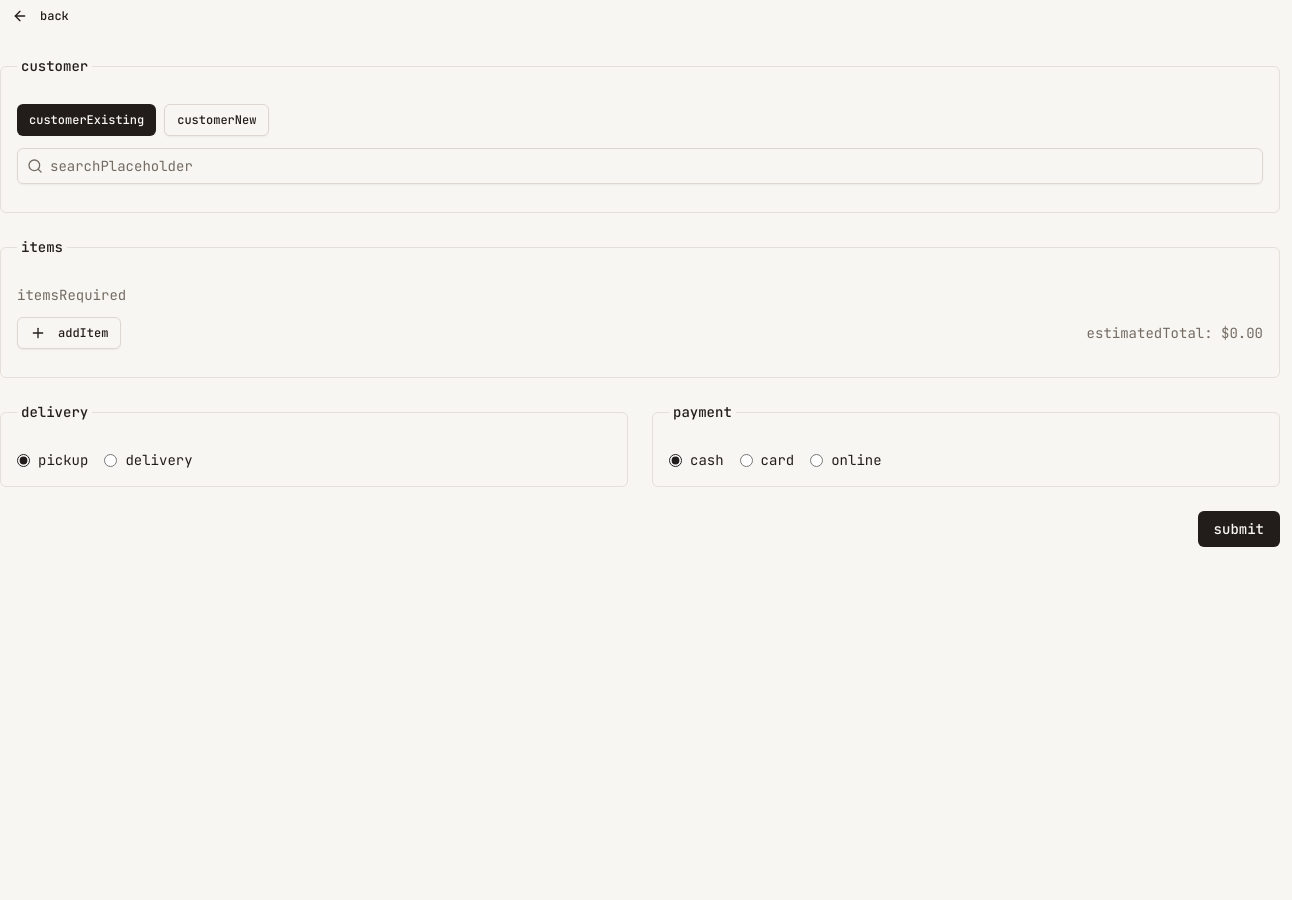
OrderIntakeForm › requires a delivery address for delivery orders
Check: the field with placeholder "searchPlaceholder" is shown, box [17,148,1263,184]
Check: the button "addItem" is enabled, box [17,317,121,349]
Click the button "customerNew" at {"x": 217, "y": 120}, box [164,104,269,136]
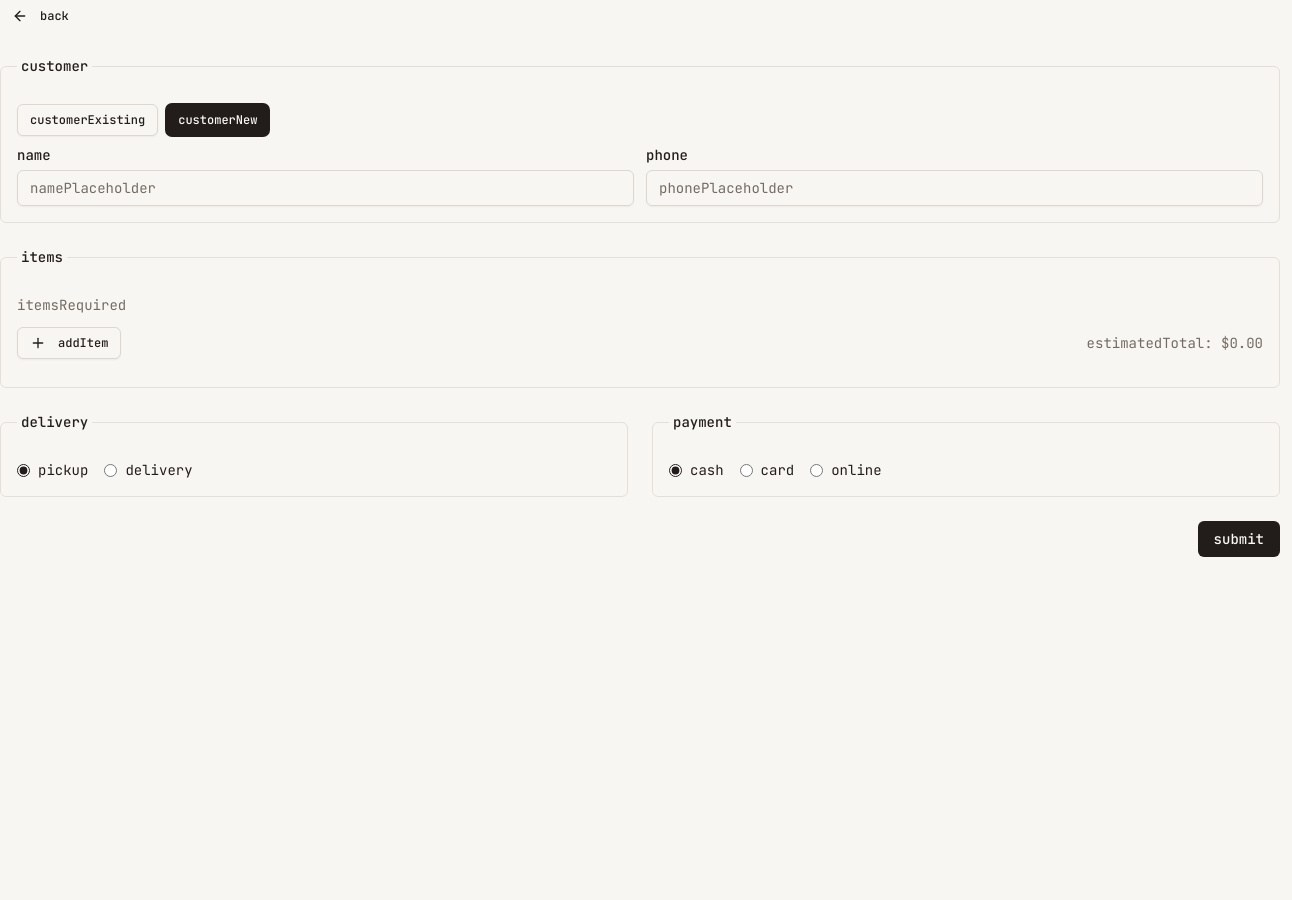
Type "Ana" into the field labelled "name" at {"x": 326, "y": 188}, box [17,170,634,206]
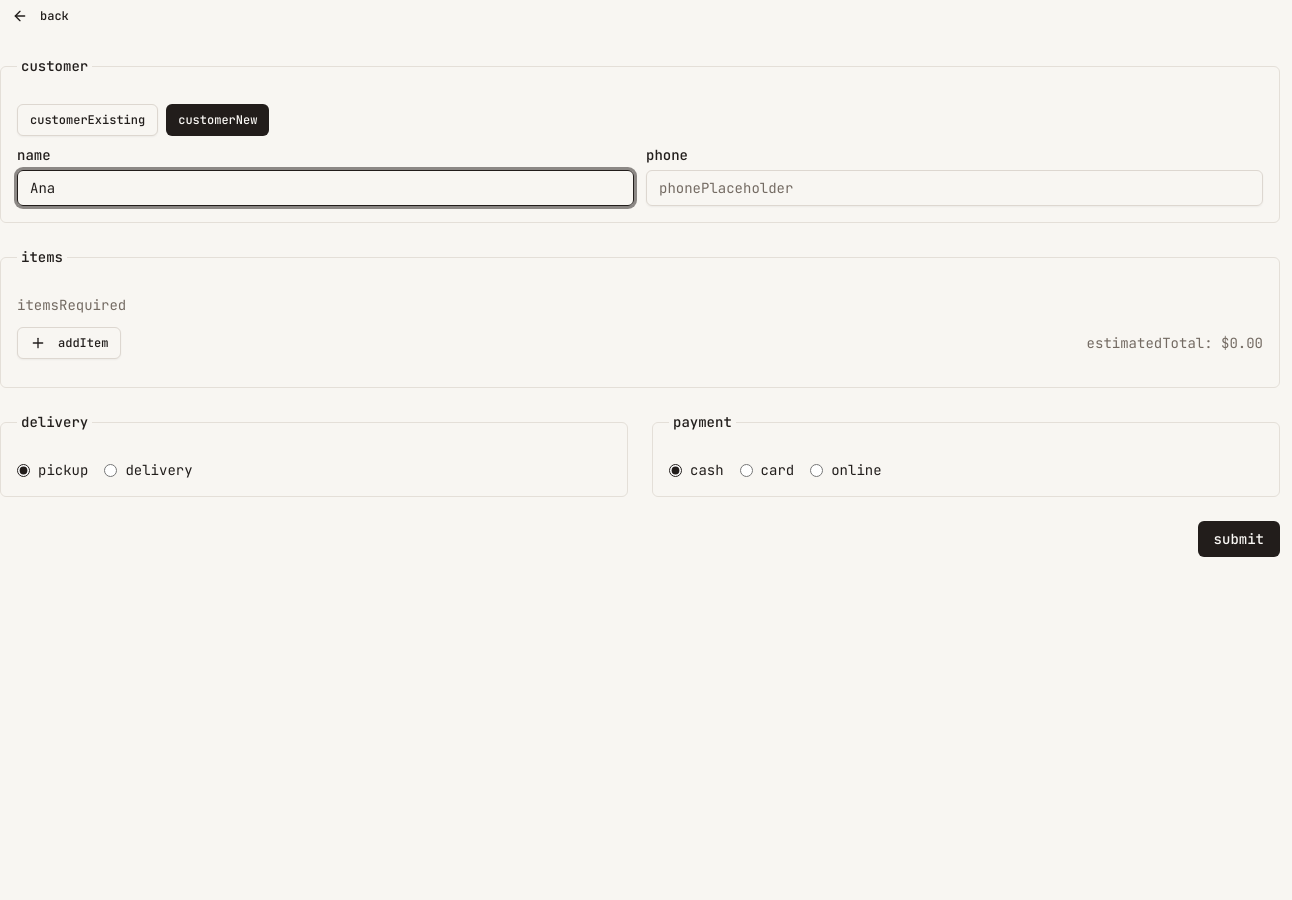
Click the button "addItem" at {"x": 69, "y": 343}, box [17,327,121,359]
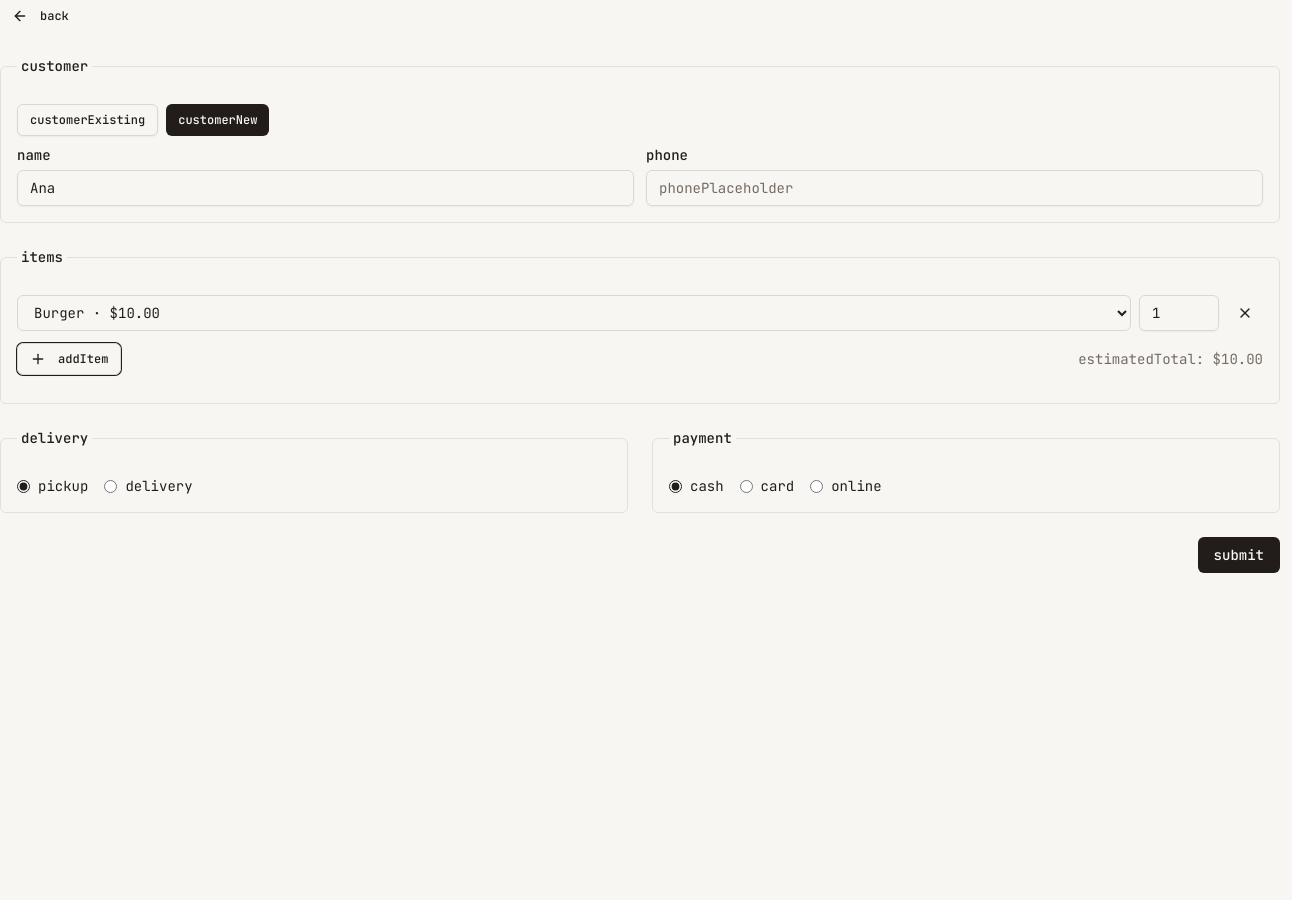
Click the radio button labelled "delivery" at {"x": 111, "y": 486}, box [104,480,117,492]
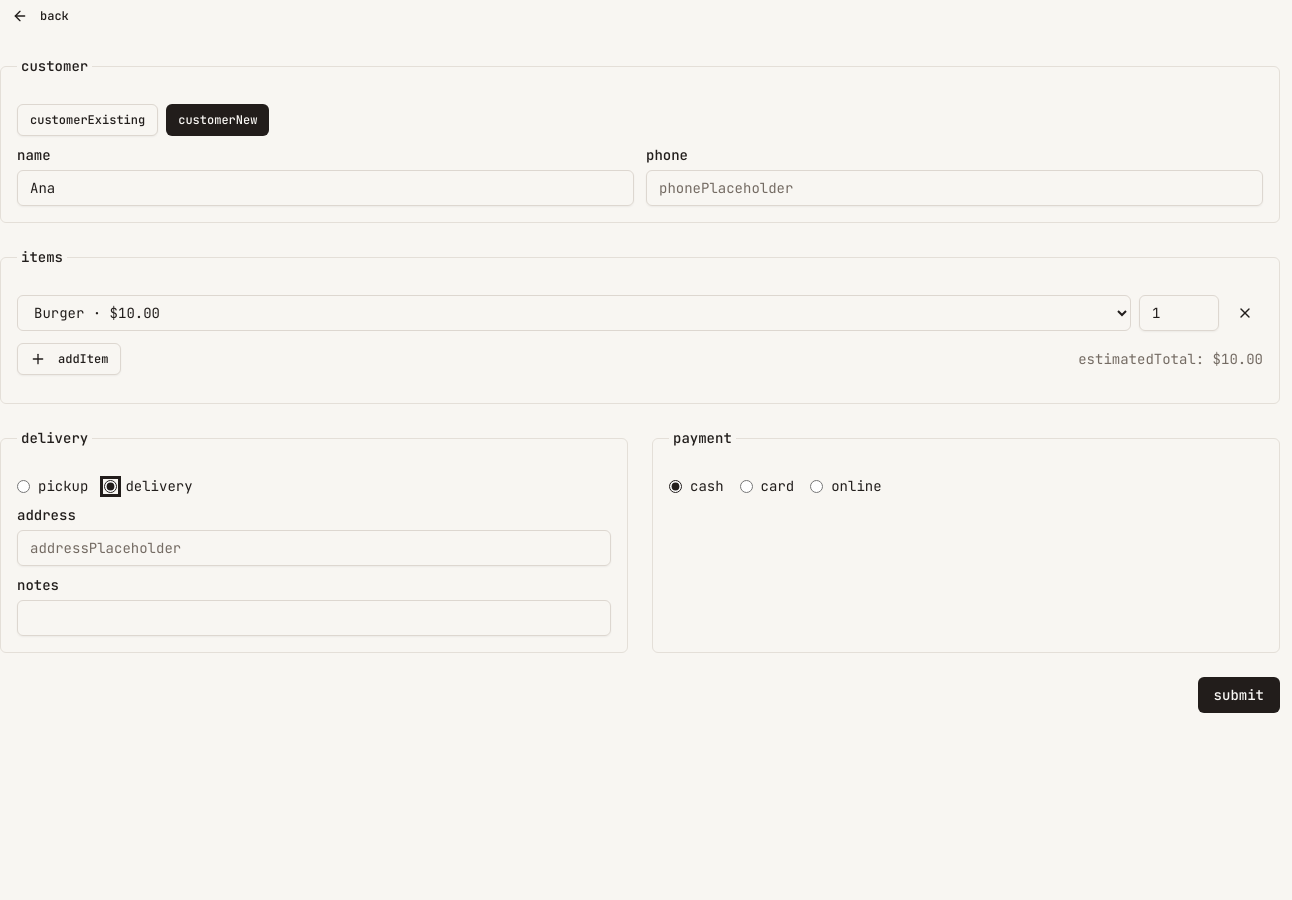
Click the button "submit" at {"x": 1239, "y": 695}, box [1198,677,1280,713]
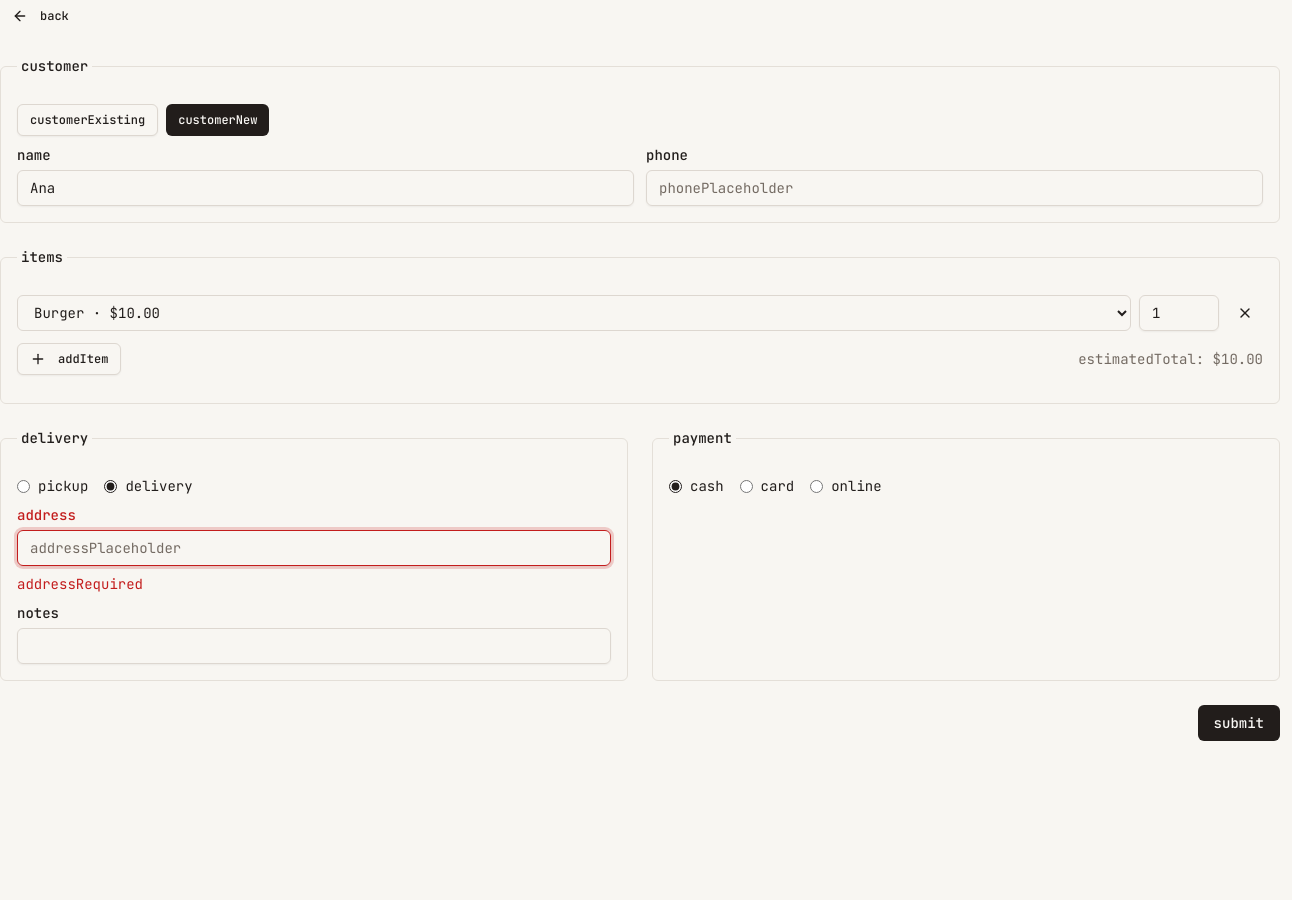
Check: the text "addressRequired" is shown, box [17,575,143,593]
